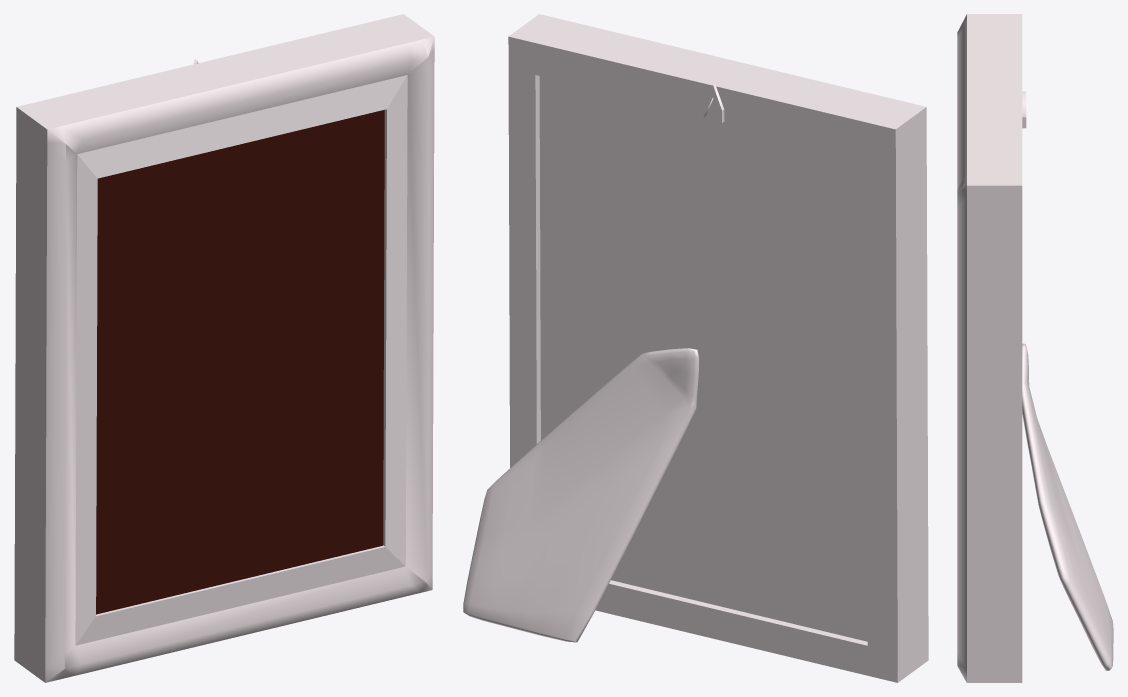
The model's file is album_height_white.glb.
3 renders of one model, left to right at view 1: azimuth 30°, elevation 25°; view 2: azimuth 150°, elevation 25°; view 3: azimuth 270°, elevation 25°, orthographic. The views are drawn at different scales.
Parts seen in each view (by area): view 1: victim_photo_PICTURE_Glass_0, victim_photo_PICTURE_frame_and_stand_0; view 2: victim_photo_PICTURE_frame_and_stand_0; view 3: victim_photo_PICTURE_frame_and_stand_0.
Part boxes in pixels (x1,y1,x2,y2): victim_photo_PICTURE_Glass_0: (96, 110, 384, 614); victim_photo_PICTURE_frame_and_stand_0: (14, 14, 434, 682); victim_photo_PICTURE_frame_and_stand_0: (463, 14, 928, 682); victim_photo_PICTURE_frame_and_stand_0: (957, 14, 1113, 682).
Bounding box in the file's own units: 0.2249 × 0.3074 × 0.0868.
